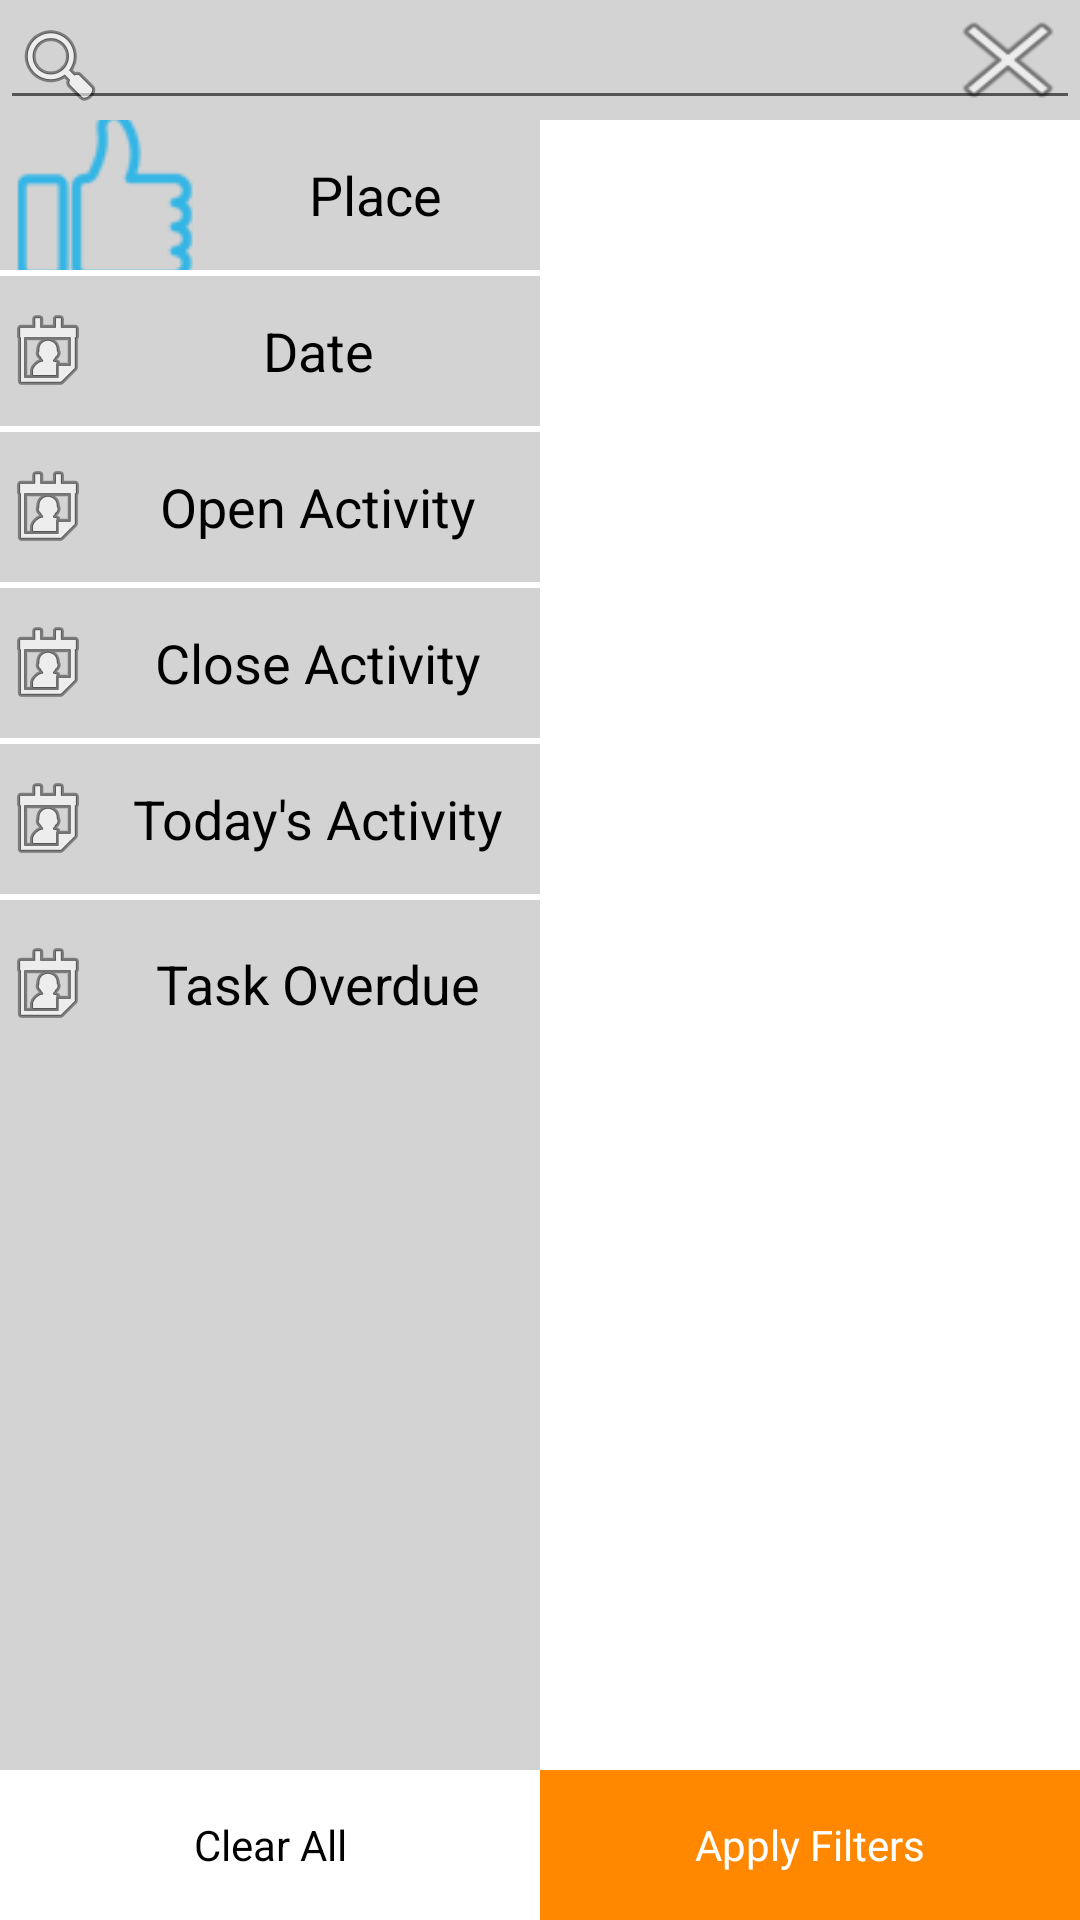

Named icons in this screenshot (1080×1920) and their centers, (x=x, y=y):
close clear cancel: (x=1002, y=60)
